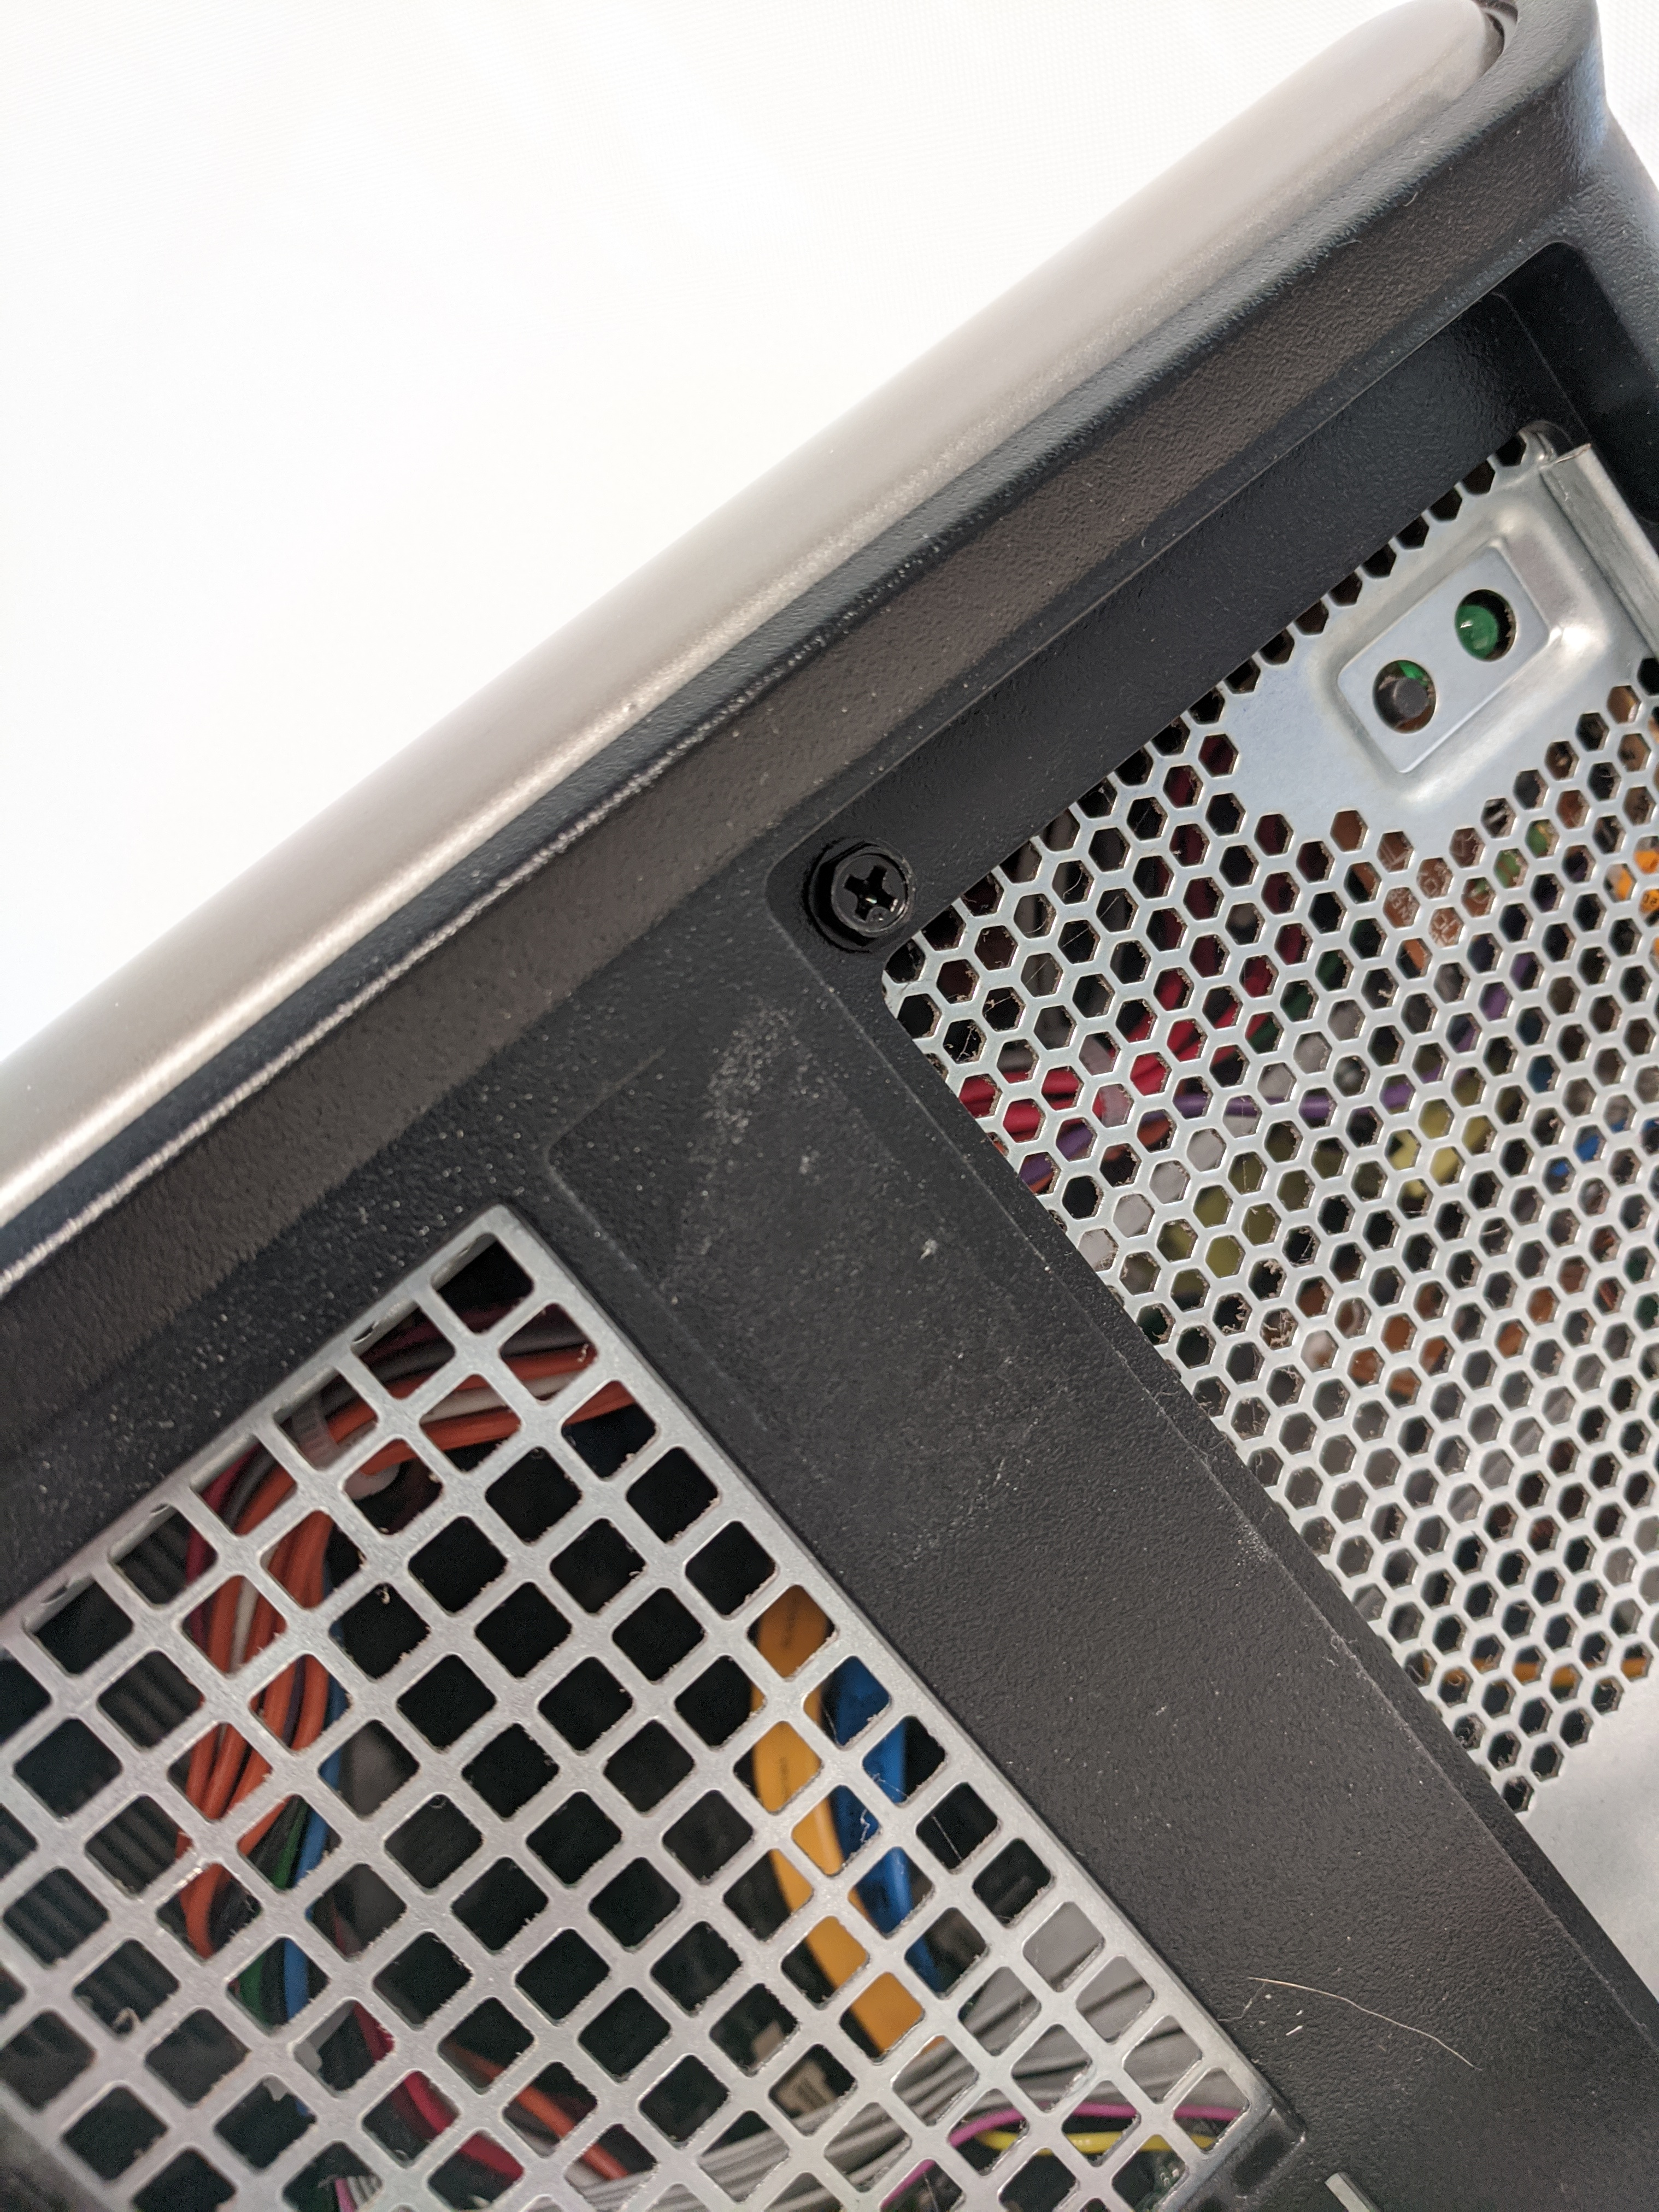cross_recessed_screw: (817, 827, 920, 930)
